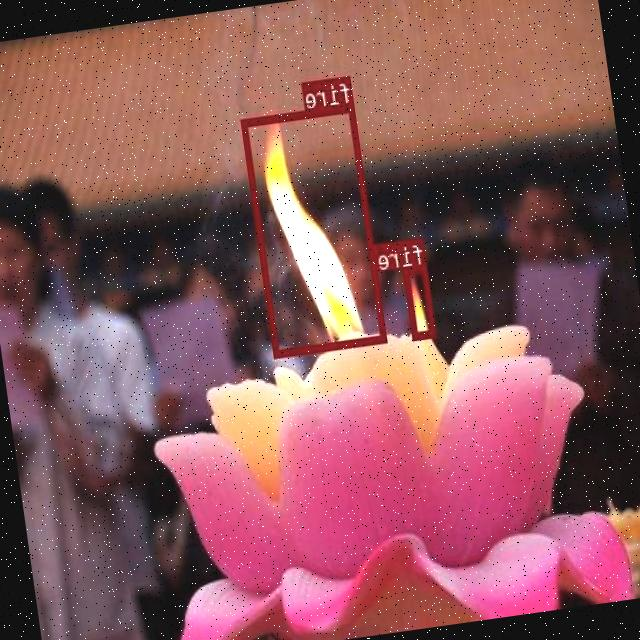fire: (242, 101, 388, 356), (404, 263, 438, 340)
